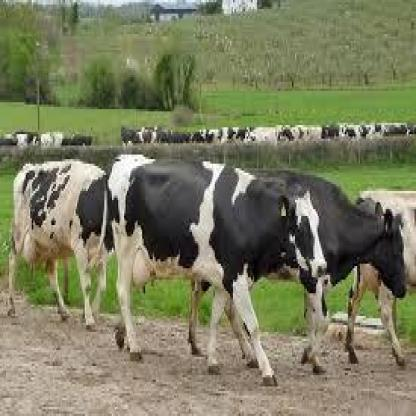cow: (108, 152, 328, 389), (184, 170, 406, 357), (7, 161, 114, 332), (345, 189, 416, 368)
